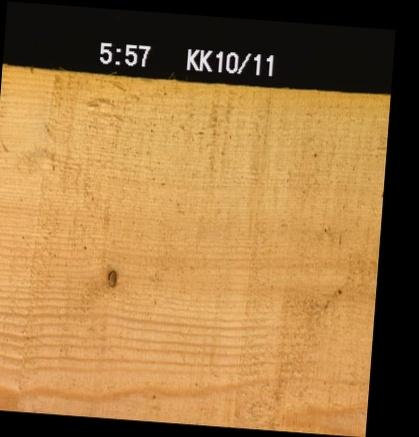dry_knot: (105, 267, 117, 287)
small_knot: (333, 284, 344, 295)
